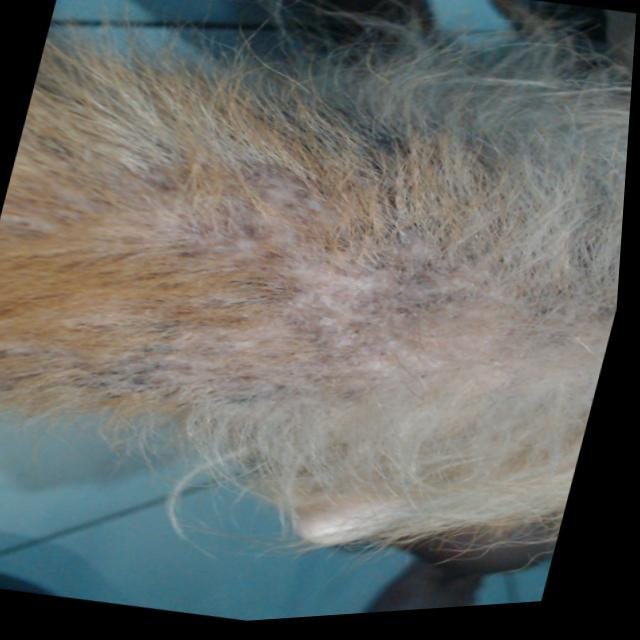demodicosis: (120, 201, 467, 406)
